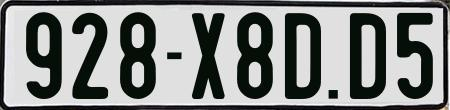2: (69, 10, 107, 101)
5: (397, 10, 436, 102)
8: (236, 11, 277, 99), (119, 11, 158, 98)
9: (26, 11, 68, 99)
D: (350, 10, 389, 99), (284, 10, 322, 101)
X: (192, 10, 231, 97)
